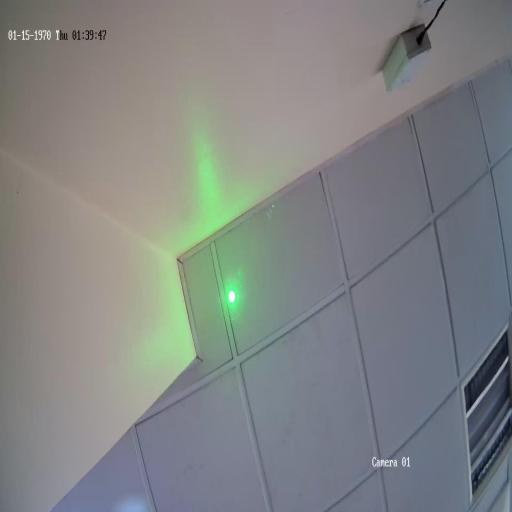laser: (225, 282, 239, 311)
